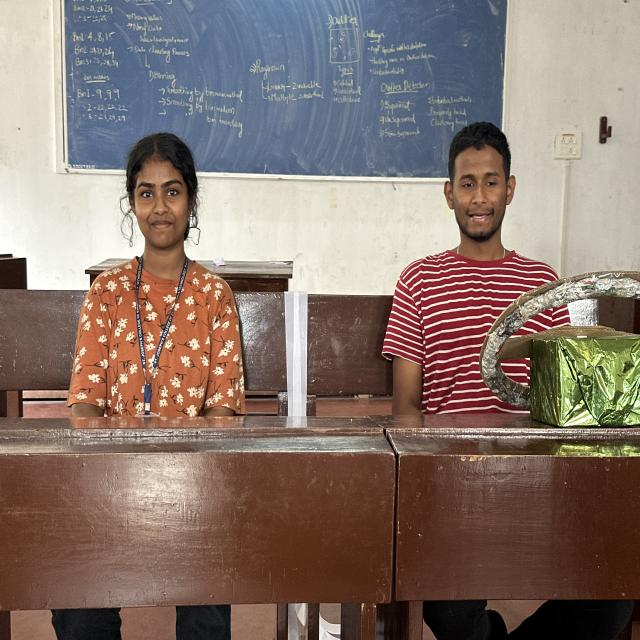Helmet: (389, 248, 571, 394), (80, 260, 239, 410)
